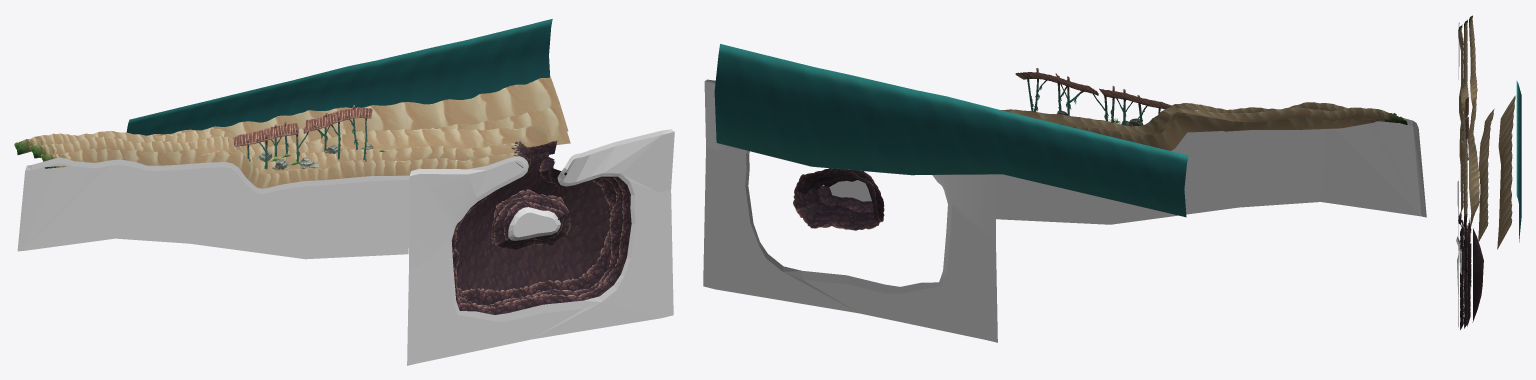
The model's file is Level 6 Deep Lake Pt 3.FBX.
3 renders of one model, left to right at view 1: azimuth 30°, elevation 25°; view 2: azimuth 150°, elevation 25°; view 3: azimuth 270°, elevation 25°, orthographic. The views are drawn at different scales.
Visible parts, largest first — view 1: LVL 6 Black Pt 3, Black Cave Pt 3 Level 6, Underwater BG Pt 3, Ground Pt 3 _1 BG, Dirt BG Pt 3 Level 6, Ground Pt 3 _1 FG, Ground Pt 3 _1, Ground Pt 3 _2 FG, Ground Pt 3 _2 BG, Dock, Ground Pt 3 _2, Ground Pt 3 _3 (+1 smaller); view 2: Underwater BG Pt 3, LVL 6 Black Pt 3, Black Cave Pt 3 Level 6, Ground Pt 3 _1 BG, Ground Pt 3 _1 FG, Ground Pt 3 _2 BG, Dock, Ground Pt 3 _1, Ground Pt 3 _3, Ground Pt 3 _2 FG; view 3: Ground Pt 3 _1 BG, Ground Pt 3 _1, Underwater BG Pt 3, Ground Pt 3 _1 FG, Dirt BG Pt 3 Level 6, Ground Pt 3 _2 BG, Ground Pt 3 _2 FG, Ground Pt 3 _2, Black Cave Pt 3 Level 6, Dock, Ground Pt 3 _3, LVL 6 Black Pt 3.
Boxes of the visible parts, bbox=[...] form: LVL 6 Black Pt 3: bbox=[17, 157, 409, 259]; Black Cave Pt 3 Level 6: bbox=[407, 129, 674, 365]; Underwater BG Pt 3: bbox=[126, 19, 552, 135]; Ground Pt 3 _1 BG: bbox=[14, 77, 570, 157]; Dirt BG Pt 3 Level 6: bbox=[455, 151, 612, 291]; Ground Pt 3 _1 FG: bbox=[41, 148, 529, 188]; Ground Pt 3 _1: bbox=[30, 136, 529, 174]; Ground Pt 3 _2 FG: bbox=[451, 160, 631, 314]; Ground Pt 3 _2 BG: bbox=[456, 140, 616, 305]; Dock: bbox=[231, 105, 372, 169]; Ground Pt 3 _2: bbox=[452, 151, 623, 307]; Ground Pt 3 _3: bbox=[493, 195, 570, 249]; Underwater BG Pt 3: bbox=[714, 44, 1188, 217]; LVL 6 Black Pt 3: bbox=[994, 118, 1426, 224]; Black Cave Pt 3 Level 6: bbox=[703, 79, 997, 342]; Ground Pt 3 _1 BG: bbox=[1001, 107, 1407, 135]; Ground Pt 3 _1 FG: bbox=[1066, 110, 1398, 150]; Ground Pt 3 _2 BG: bbox=[793, 168, 879, 230]; Dock: bbox=[1015, 68, 1175, 125]; Ground Pt 3 _1: bbox=[1058, 102, 1396, 135]; Ground Pt 3 _3: bbox=[805, 168, 884, 222]; Ground Pt 3 _2 FG: bbox=[818, 171, 874, 212]; Ground Pt 3 _1 BG: bbox=[1468, 15, 1515, 249]; Ground Pt 3 _1: bbox=[1461, 20, 1468, 222]; Underwater BG Pt 3: bbox=[1516, 80, 1521, 242]; Ground Pt 3 _1 FG: bbox=[1458, 24, 1464, 223]; Dirt BG Pt 3 Level 6: bbox=[1469, 228, 1483, 322]; Ground Pt 3 _2 BG: bbox=[1467, 219, 1471, 326]; Ground Pt 3 _2 FG: bbox=[1459, 220, 1464, 329]; Ground Pt 3 _2: bbox=[1464, 222, 1467, 328]; Black Cave Pt 3 Level 6: bbox=[1456, 181, 1461, 327]; Dock: bbox=[1464, 96, 1468, 149]; Ground Pt 3 _3: bbox=[1464, 244, 1467, 284]; LVL 6 Black Pt 3: bbox=[1458, 22, 1459, 79].
Size of what is drawn, in the model's own units: 13114 by 2070 by 6184.
